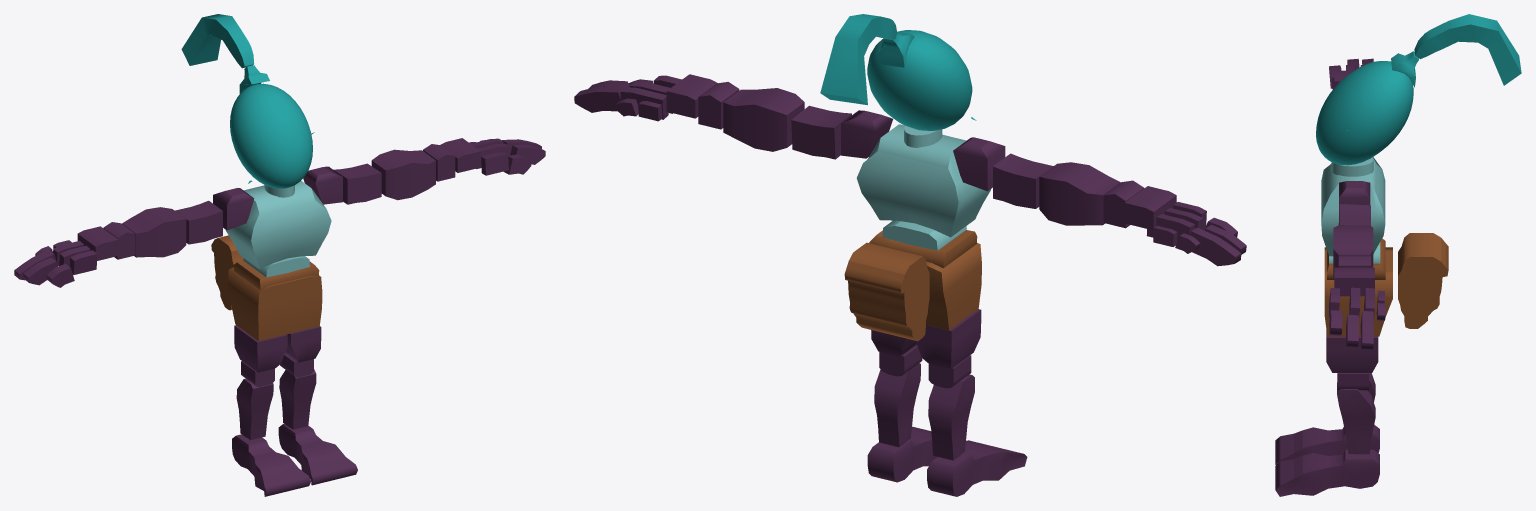
File: AbeModelNoeyeBalls.fbx
3 views of the same model, side by side, from view 1: azimuth 30°, elevation 25°; view 2: azimuth 150°, elevation 25°; view 3: azimuth 270°, elevation 25° (orthographic). The views are drawn at different scales.
Visible parts, largest first — view 1: Head1, Torso, Hips, RightFoot, LeftFoot, LeftForeArm, RForeArm, RightCalve, LeftCalve, RightQuad, RArm, LeftBicep (+15 smaller); view 2: Head1, Torso, SashBehind, LeftForeArm, RForeArm, Hips, RightFoot, RightCalve, LeftCalve, LeftFoot, RightQuad, LeftBicep (+17 smaller); view 3: Head1, SashBehind, LeftFoot, Torso, RightFoot, LeftCalve, Hips, LeftQuad, LeftForeArm, LeftPalm, Leftshoulder, LeftRingFinger (+7 smaller).
Boxes of the visible parts, x1,y1,x2,y2 form: Head1: (181,14,312,188); Torso: (226,181,331,269); Hips: (227,267,322,341); RightFoot: (232,434,310,496); LeftFoot: (278,424,357,485); LeftForeArm: (371,149,435,200); RForeArm: (122,207,186,257); RightCalve: (236,378,273,440); LeftCalve: (279,369,316,429); RightQuad: (234,325,287,372); RArm: (175,200,222,244); LeftBicep: (333,163,381,204); Head1: (820,14,972,130); Torso: (856,124,990,237); SashBehind: (844,242,929,341); LeftForeArm: (723,88,804,151); RForeArm: (1039,162,1120,225); Hips: (926,243,981,330); RightFoot: (927,440,1027,496); RightCalve: (928,374,974,460); LeftCalve: (874,363,920,447); LeftFoot: (867,426,966,482); RightQuad: (915,309,981,368); LeftBicep: (791,105,851,159); Head1: (1316,14,1521,165); SashBehind: (1398,233,1448,328); LeftFoot: (1275,449,1379,496); Torso: (1321,157,1385,256); RightFoot: (1275,425,1379,464); LeftCalve: (1337,382,1375,454); Hips: (1324,247,1392,336); LeftQuad: (1326,330,1378,372); LeftForeArm: (1333,225,1373,277); LeftPalm: (1334,267,1374,296); Leftshoulder: (1339,181,1370,215); LeftRingFinger: (1360,288,1374,349).
Size of the model in its own units: 9.08 by 6.78 by 3.33.
